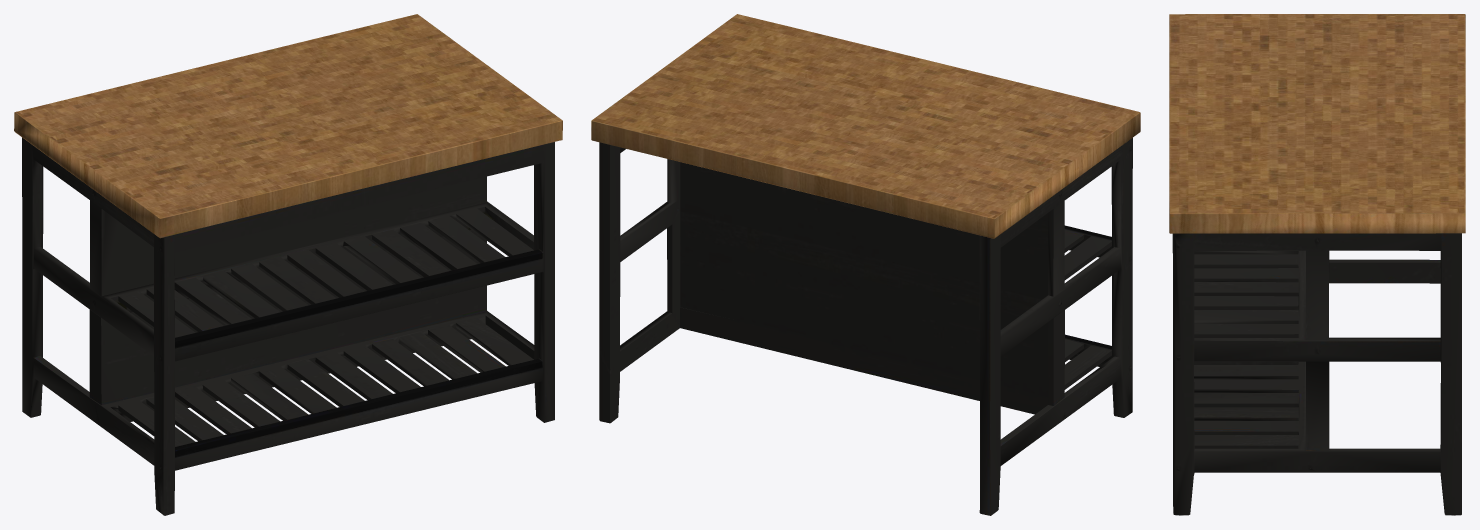
The model's file is vadholma_wyspa_kuchenna_20359154.glb.
3 views of the same model, side by side, from view 1: azimuth 30°, elevation 25°; view 2: azimuth 150°, elevation 25°; view 3: azimuth 270°, elevation 25° (orthographic).
Parts seen in each view (by area): view 1: vadholma_wyspa_kuchenna_20359154; view 2: vadholma_wyspa_kuchenna_20359154; view 3: vadholma_wyspa_kuchenna_20359154.
Part boxes in pixels (x1=…): vadholma_wyspa_kuchenna_20359154: x1=14, y1=14, x2=562, y2=515; vadholma_wyspa_kuchenna_20359154: x1=591, y1=14, x2=1140, y2=515; vadholma_wyspa_kuchenna_20359154: x1=1169, y1=14, x2=1465, y2=515.
Size of the model in its own units: 1.26 by 0.9005 by 0.7902.
Materials: 1 (1 with a texture image).
